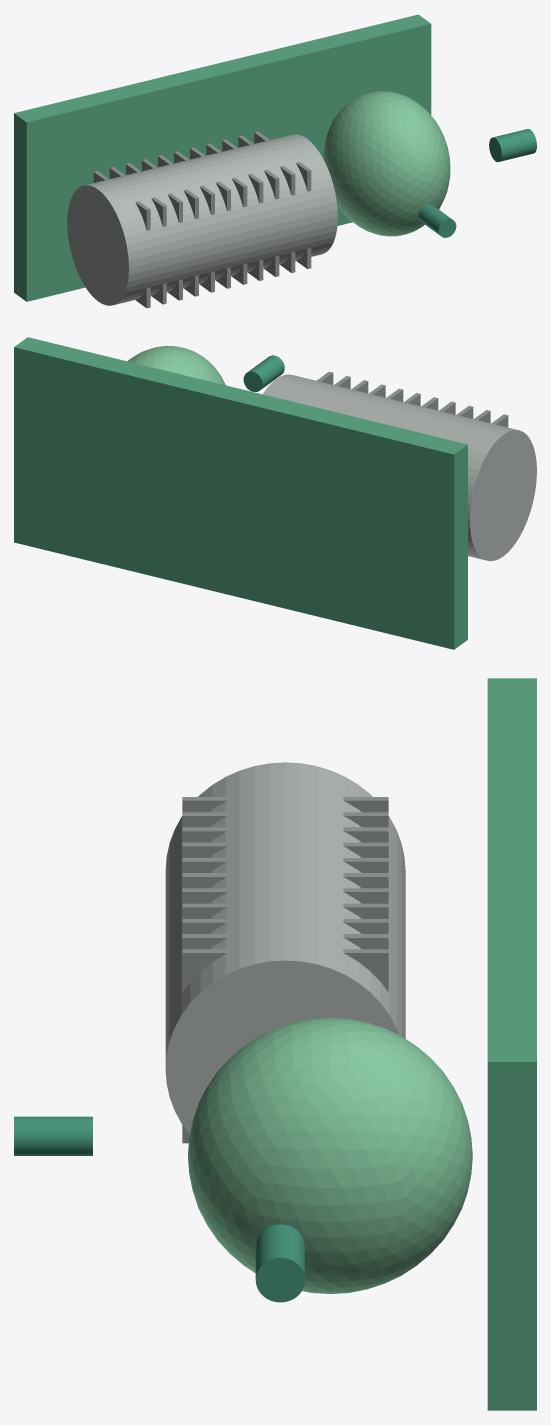
Rendered from candidate-a.glb.
The picture shows the model from 3 angles, top to bottom: view 1: azimuth 30°, elevation 25°; view 2: azimuth 150°, elevation 25°; view 3: azimuth 270°, elevation 25°; orthographic projection. The views are drawn at different scales.
Visible parts, largest first — view 1: equipment_base, motor, pump_casing, connector_inlet, connector_outlet, motor_fin_06, motor_fin_07, motor_fin_08, motor_fin_09, motor_fin_10, motor_fin_01, motor_fin_00 (+4 smaller); view 2: equipment_base, motor, pump_casing, connector_outlet; view 3: pump_casing, motor, equipment_base, connector_inlet, connector_outlet, motor_fin_10, motor_fin_03, motor_fin_07, motor_fin_02, motor_fin_06, motor_fin_01, motor_fin_05 (+4 smaller).
Boxes of the visible parts, x1=… form: equipment_base: x1=14, y1=14, x2=431, y2=301; motor: x1=67, y1=134, x2=337, y2=305; pump_casing: x1=323, y1=91, x2=450, y2=236; connector_inlet: x1=489, y1=129, x2=536, y2=162; connector_outlet: x1=418, y1=204, x2=456, y2=237; motor_fin_06: x1=190, y1=147, x2=247, y2=284; motor_fin_07: x1=206, y1=143, x2=263, y2=280; motor_fin_08: x1=222, y1=139, x2=279, y2=276; motor_fin_09: x1=238, y1=135, x2=295, y2=272; motor_fin_10: x1=254, y1=131, x2=311, y2=269; motor_fin_01: x1=109, y1=167, x2=166, y2=304; motor_fin_00: x1=93, y1=171, x2=150, y2=308; equipment_base: x1=14, y1=337, x2=467, y2=649; motor: x1=263, y1=374, x2=536, y2=561; pump_casing: x1=127, y1=346, x2=225, y2=385; connector_outlet: x1=243, y1=355, x2=284, y2=391; pump_casing: x1=188, y1=1018, x2=472, y2=1293; motor: x1=165, y1=762, x2=405, y2=1134; equipment_base: x1=487, y1=678, x2=536, y2=1410; connector_inlet: x1=255, y1=1224, x2=304, y2=1302; connector_outlet: x1=14, y1=1116, x2=92, y2=1155; motor_fin_10: x1=182, y1=949, x2=388, y2=1143; motor_fin_03: x1=182, y1=842, x2=388, y2=857; motor_fin_07: x1=182, y1=903, x2=388, y2=918; motor_fin_02: x1=182, y1=827, x2=388, y2=842; motor_fin_06: x1=182, y1=888, x2=388, y2=903; motor_fin_01: x1=182, y1=812, x2=388, y2=827; motor_fin_05: x1=182, y1=873, x2=388, y2=888.
Bounding box in the file's own units: 2.05 × 0.78 × 1.06.
